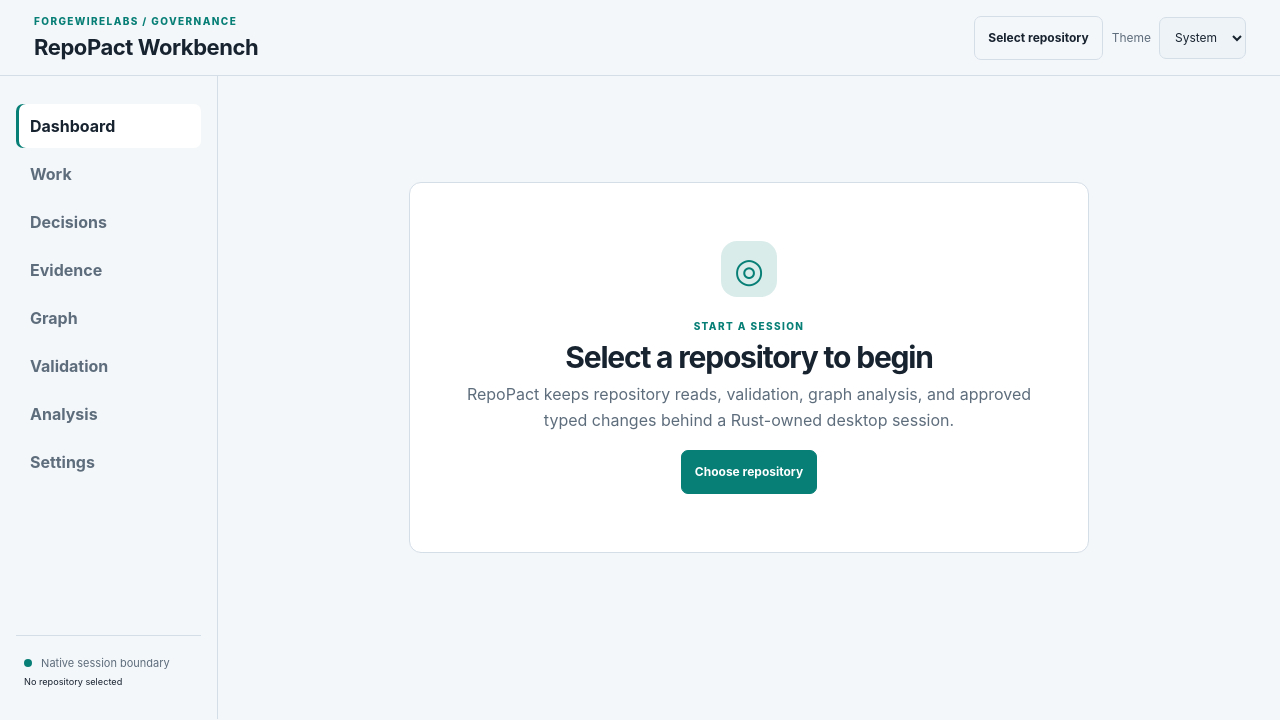
it: adaptive workbench information architecture › discloses a stale durable baseline distinctly from a fresh one
Click the button "Choose repository" at (749, 472), box [681,450,817,494]
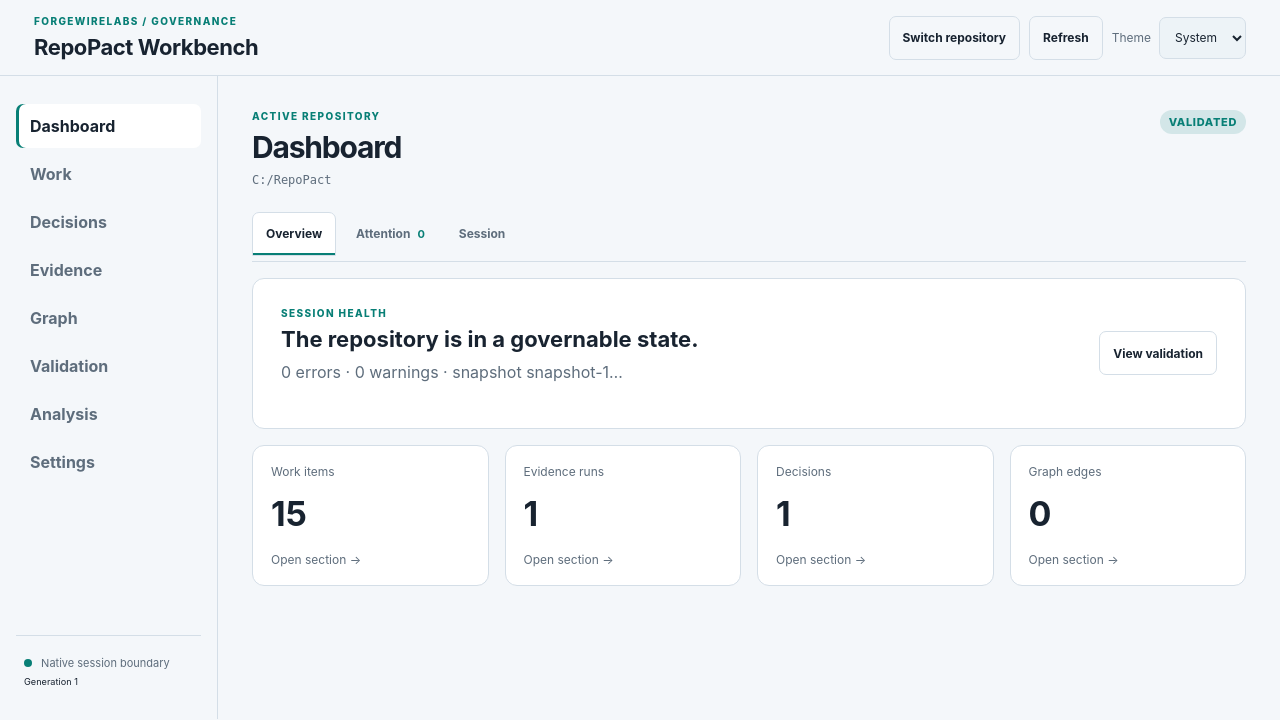
Check: the heading "Dashboard" is shown, box [252,129,401,165]
Click the button "Graph" at (108, 318), box [16,296,201,340]
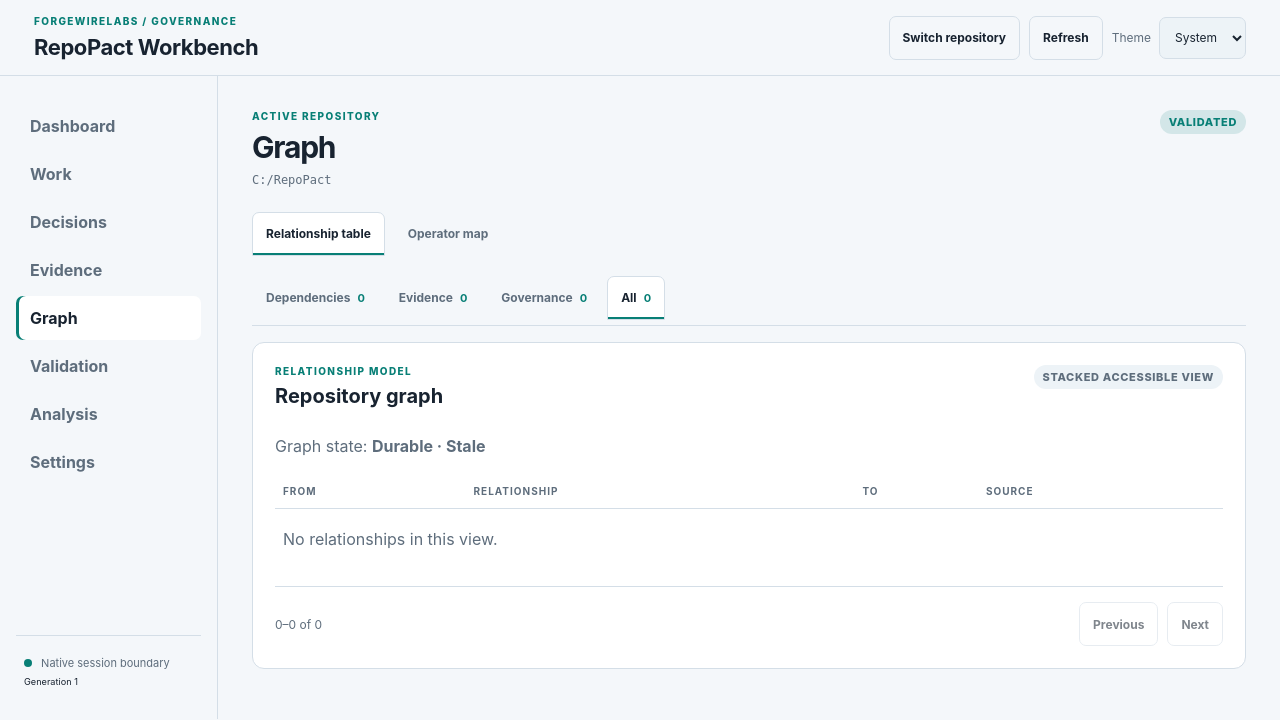
Check: the heading "Repository graph" is shown, box [275,384,443,408]
Check: the element with test id "graph-status" shows "Stale", box [372,436,486,456]
